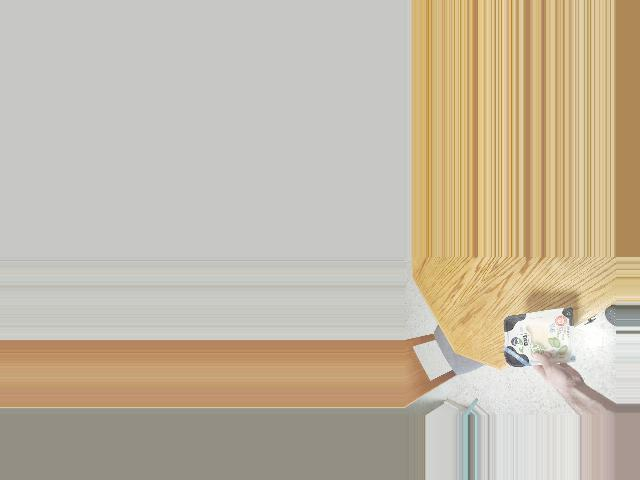cheese: (494, 316, 588, 371)
